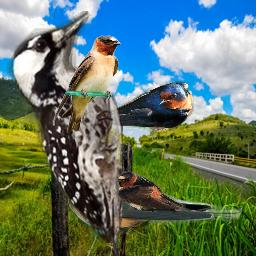Swallow: (63, 163, 242, 235), (53, 35, 121, 133), (67, 81, 194, 132), (116, 171, 186, 212)
Woodpecker: (7, 11, 123, 243)
